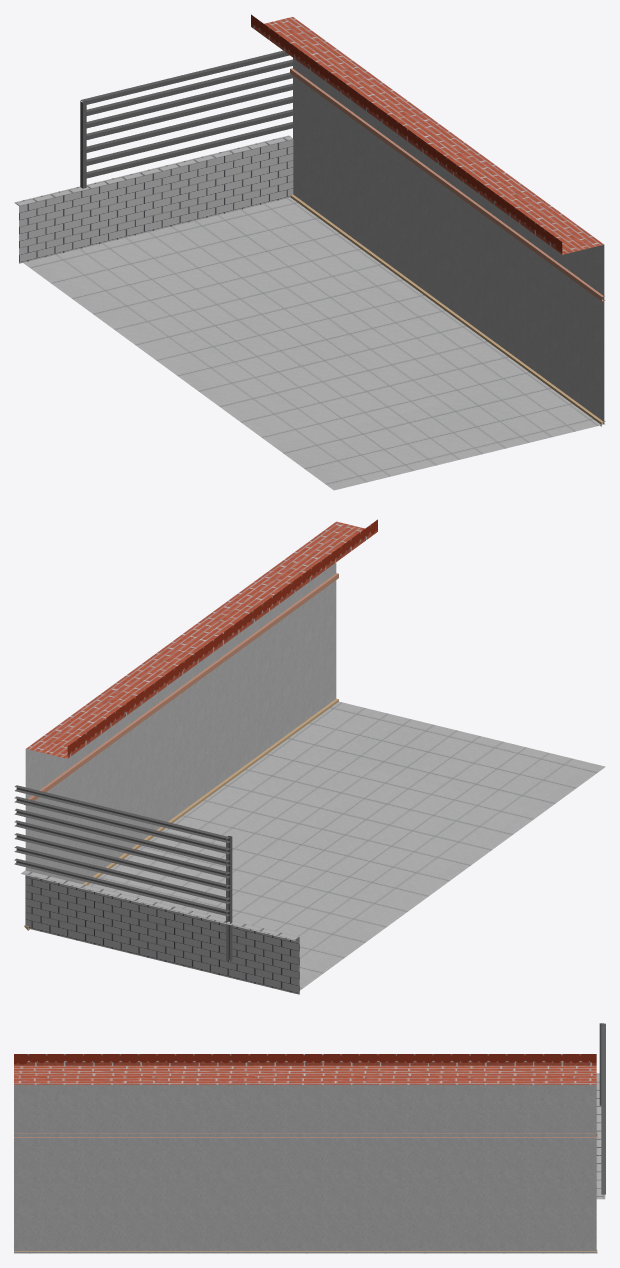
3 renders of one model, top to bottom at view 1: azimuth 30°, elevation 25°; view 2: azimuth 150°, elevation 25°; view 3: azimuth 270°, elevation 25°, orthographic. The views are drawn at different scales.
Visible parts, largest first — view 1: 3 bg.027, 3 bg.030; view 2: 3 bg.027, 3 bg.030; view 3: 3 bg.027, 3 bg.030.
Part boxes in pixels (left/top/right/bottom): 3 bg.027: left=14, top=14, right=605, bottom=490; 3 bg.030: left=80, top=50, right=292, bottom=188; 3 bg.027: left=21, top=519, right=605, bottom=994; 3 bg.030: left=14, top=785, right=232, bottom=961; 3 bg.027: left=14, top=1054, right=605, bottom=1253; 3 bg.030: left=599, top=1023, right=605, bottom=1194.
Bounding box in the file's own units: 24.9 × 16.42 × 48.48.
Materials: 1 (1 with a texture image).
